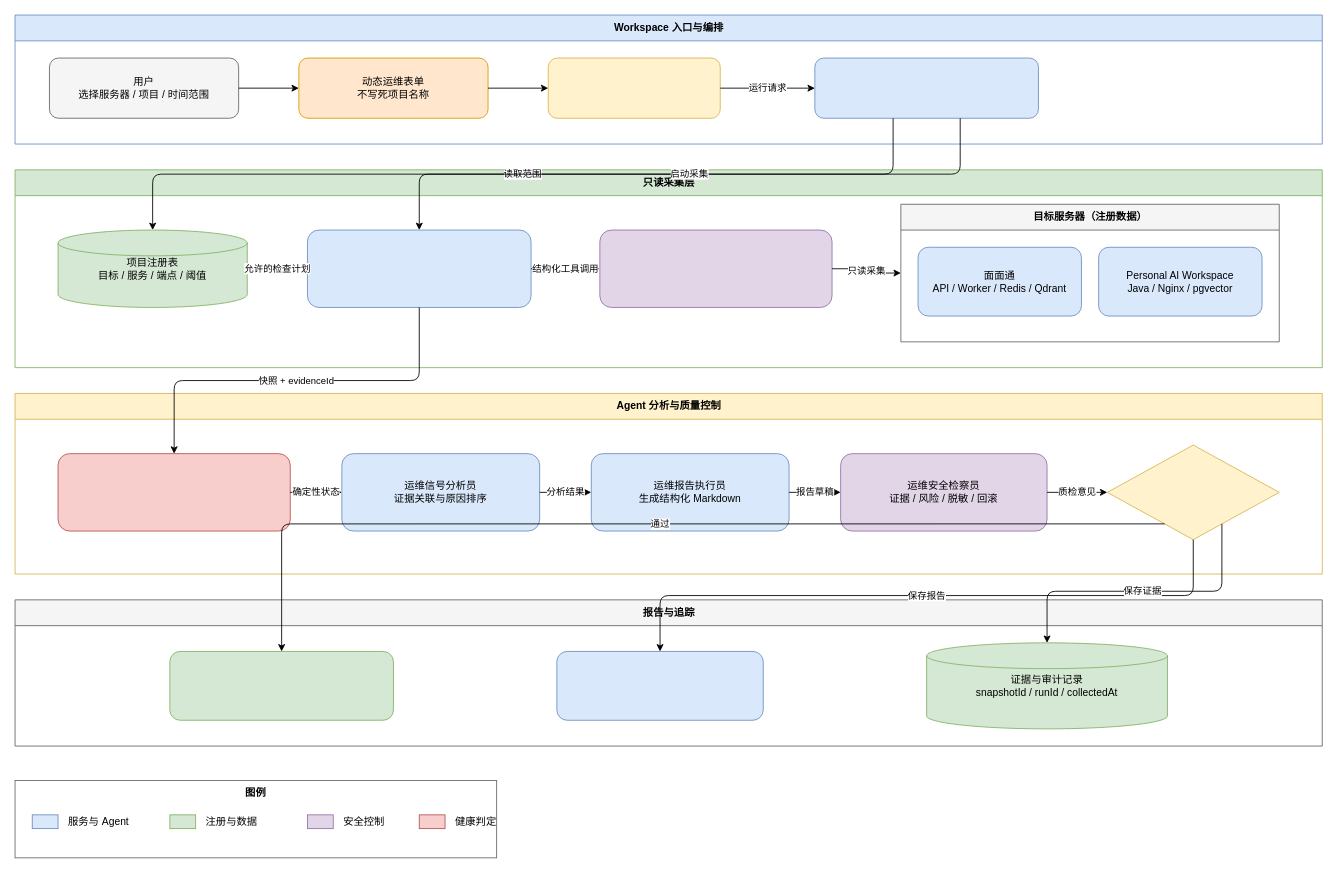
Some shapes in this 1337 by 873 pixel diagram are drawn without their labels. Each missing label, with the centre of its shape:
"Markdown 报告 复制 / 导出 .md" belongs at point 659,685.
"OPS_REPORT 编排器 生成 runId 与采集计划" belongs at point 926,87.
"WorkspaceOpsSnapshotService 校验范围 + 结构化采集" belongs at point 419,268.
"手动触发 / 定时触发" belongs at point 633,87.
"服务器运维只读 MCP 固定工具 + JSON Schema + 脱敏" belongs at point 715,268.
"确定性健康判定 FAULT / ATTENTION / UNKNOWN / HEALTHY" belongs at point 173,492.
"确定性质检器 覆盖率 / 新鲜度 / 引用完整性" belongs at point 1192,492.
"项目健康矩阵 仅看异常 / 按项目筛选" belongs at point 281,685.
